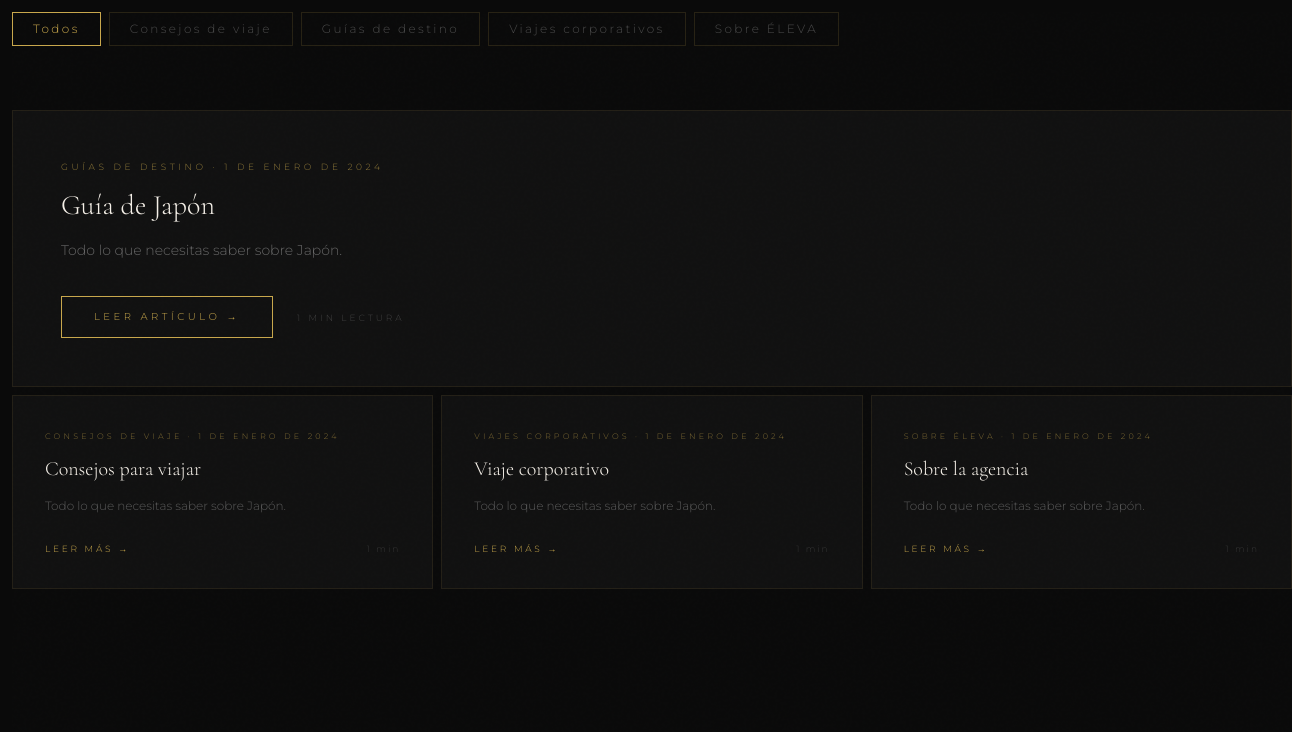
Test: BlogFilterGrid — filtrado por categoría › filtra los posts al hacer click en una categoría
Step 1. Click the list item "Consejos de viaje" → (201, 29), box left=109, top=12, right=293, bottom=46
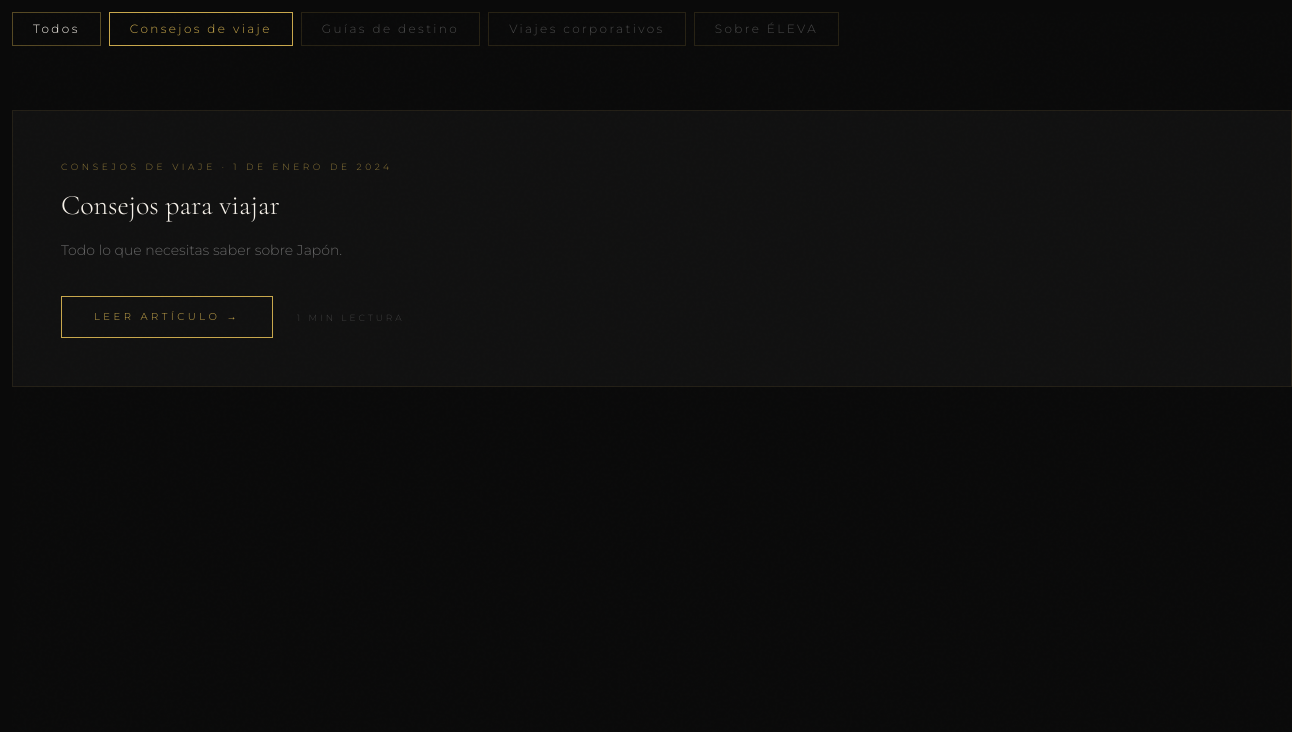
Result: the heading "Consejos para viajar" is shown at left=61, top=188, right=280, bottom=222
Result: the heading "Guía de Japón" is gone
Result: the heading "Viaje corporativo" is gone
